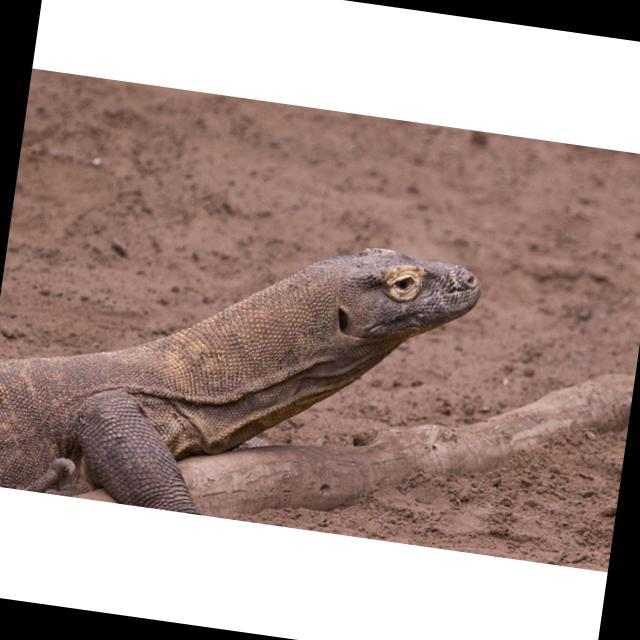KomodoDragon: (0, 190, 489, 547)
